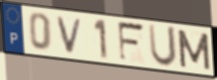0: (27, 11, 54, 53)
1: (92, 18, 110, 61)
F: (116, 20, 147, 64)
M: (175, 28, 212, 72)
U: (146, 22, 178, 69)
V: (55, 16, 85, 56)
